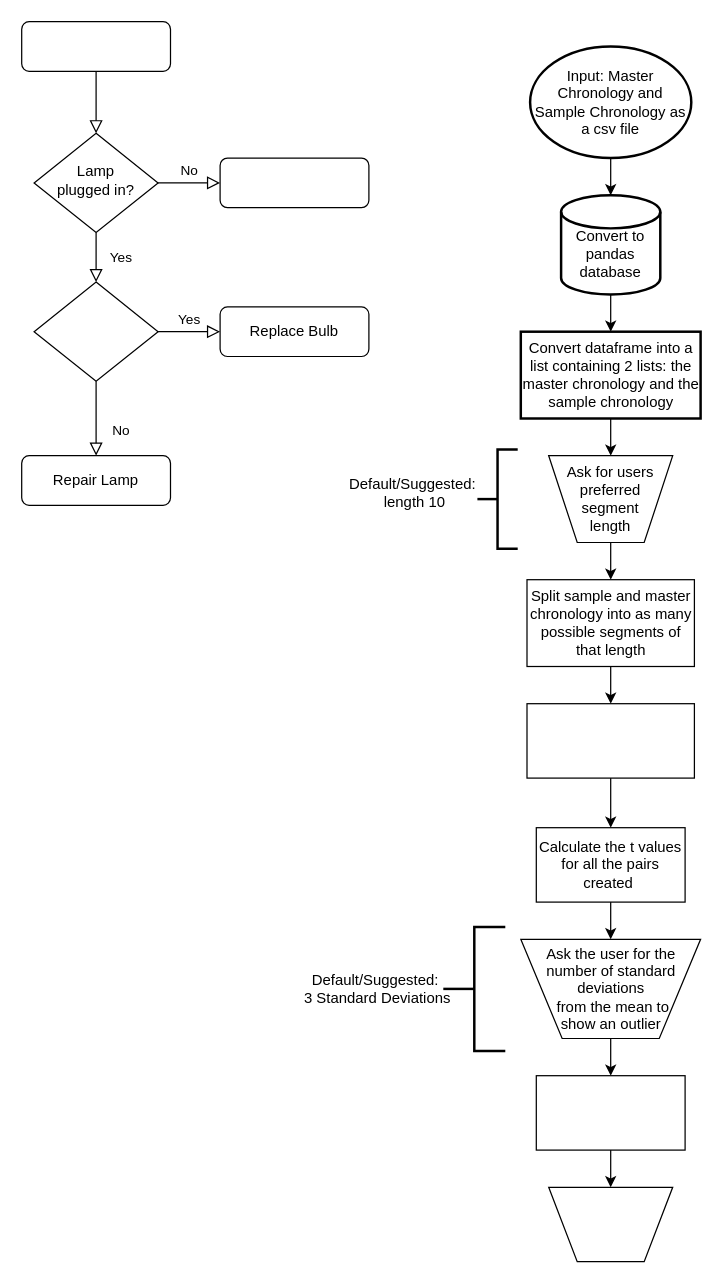
The diagram is 723 pixels wide and 1283 high, and some of its shapes have lost their labels. Each missing label, with the centre of its shape:
Bulb burned out?: the point at 95,331
Calculate the list of statistical outliers: the point at 610,1112
In: the point at 95,45
Match every master chronology segment to every sample chronology segment: the point at 610,740
Plug in lamp: the point at 294,182
